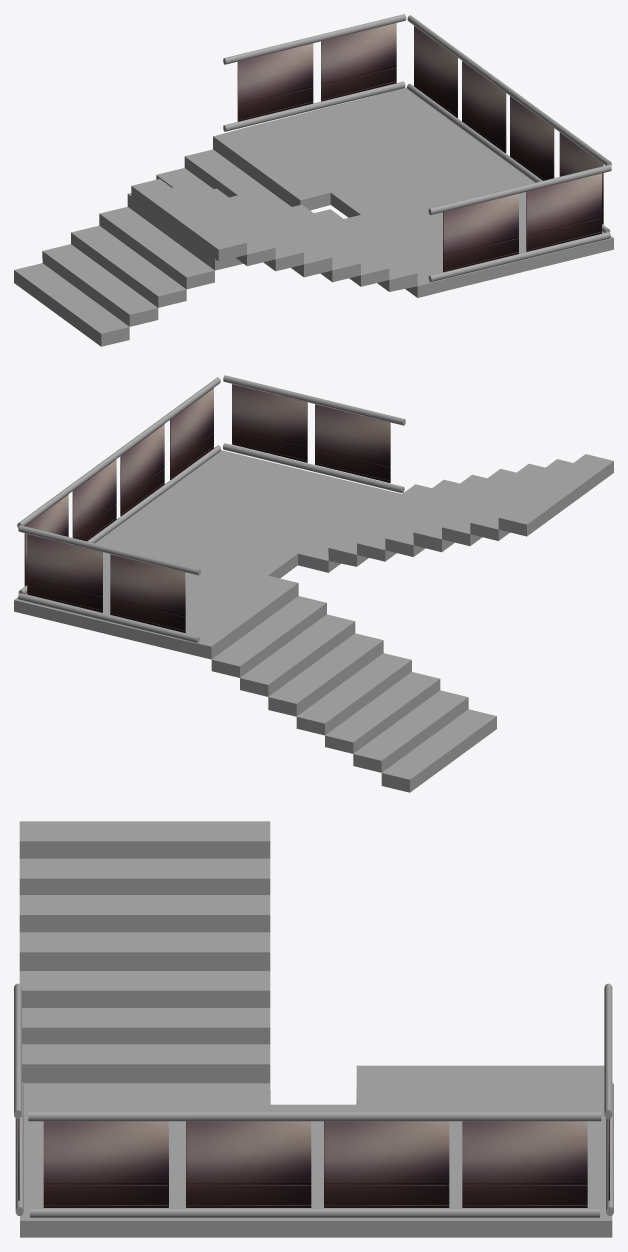
File: Stairs.fbx
3 views of the same model, one above another, from view 1: azimuth 30°, elevation 25°; view 2: azimuth 150°, elevation 25°; view 3: azimuth 270°, elevation 25° (orthographic). The views are drawn at different scales.
Visible parts, largest first — view 1: polySurface24, pCube518 (×2), pCube519 (×2), pCube520, pCube521, pCylinder141 (×2), pCube517, pCylinder142 (×2), pCylinder143, pCylinder144, pCube516; view 2: polySurface24, pCube518 (×2), pCube519 (×2), pCube520, pCube521, pCylinder141 (×2), pCube517, pCube516, pCylinder142 (×2), pCylinder143, pCylinder144; view 3: polySurface24, pCube516, pCube517, pCube518, pCube519, pCylinder141 (×2), pCylinder142 (×2), pCylinder143, pCylinder144.
Boxes of the visible parts, left/top/right/bottom form: polySurface24: left=14, top=87, right=613, bottom=346; pCube518 (×2): left=237, top=43, right=506, bottom=153; pCube519 (×2): left=321, top=23, right=457, bottom=117; pCube520: left=443, top=193, right=518, bottom=272; pCube521: left=526, top=173, right=601, bottom=251; pCylinder141 (×2): left=223, top=14, right=611, bottom=165; pCube517: left=510, top=96, right=554, bottom=180; pCylinder142 (×2): left=223, top=81, right=610, bottom=232; pCylinder143: left=428, top=164, right=611, bottom=214; pCylinder144: left=428, top=232, right=610, bottom=282; pCube516: left=559, top=132, right=603, bottom=224; polySurface24: left=14, top=450, right=613, bottom=792; pCube518 (×2): left=72, top=459, right=185, bottom=632; pCube519 (×2): left=24, top=494, right=102, bottom=612; pCube520: left=315, top=404, right=390, bottom=482; pCube521: left=232, top=384, right=307, bottom=462; pCylinder141 (×2): left=17, top=377, right=220, bottom=575; pCube517: left=120, top=424, right=164, bottom=515; pCube516: left=170, top=388, right=213, bottom=479; pCylinder142 (×2): left=18, top=445, right=220, bottom=643; pCylinder143: left=223, top=375, right=405, bottom=425; pCylinder144: left=223, top=443, right=404, bottom=493; polySurface24: left=19, top=821, right=612, bottom=1237; pCube516: left=43, top=1121, right=168, bottom=1207; pCube517: left=186, top=1121, right=311, bottom=1207; pCube518: left=324, top=1121, right=449, bottom=1207; pCube519: left=462, top=1121, right=587, bottom=1207; pCylinder141 (×2): left=28, top=983, right=612, bottom=1121; pCylinder142 (×2): left=30, top=1082, right=613, bottom=1217; pCylinder143: left=14, top=983, right=21, bottom=1118; pCylinder144: left=15, top=1082, right=23, bottom=1215.
Size of the model in its own units: 93.01 by 41.08 by 84.91.
2 materials, 1 textured.
